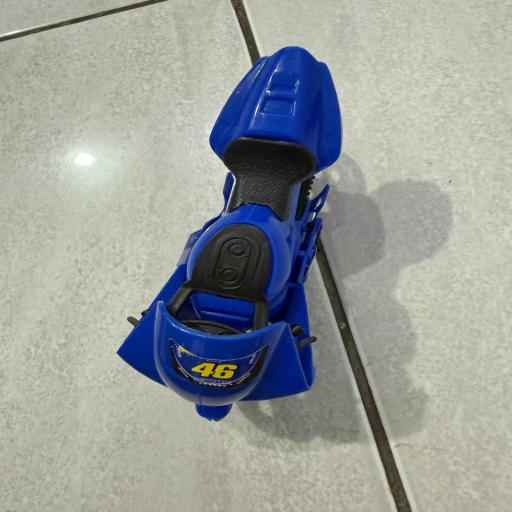motor-biru: (105, 38, 365, 429)
